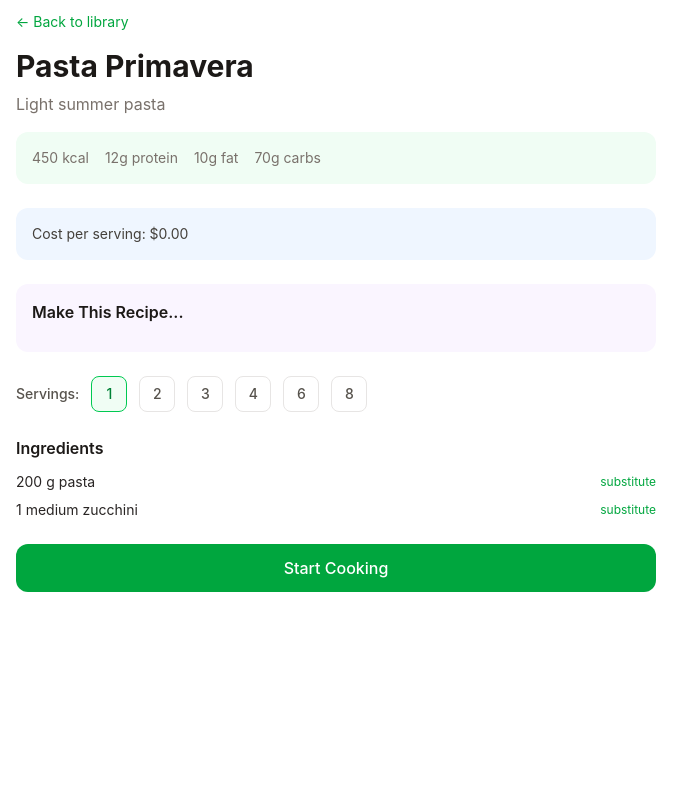
RecipeDetail › shows substitution results after clicking substitute
What coordinates should you click on to do the following:
click the button with test id "substitute-0"
I would click on:
 (628, 482)
Its box is x1=600 y1=474 x2=656 y2=490.
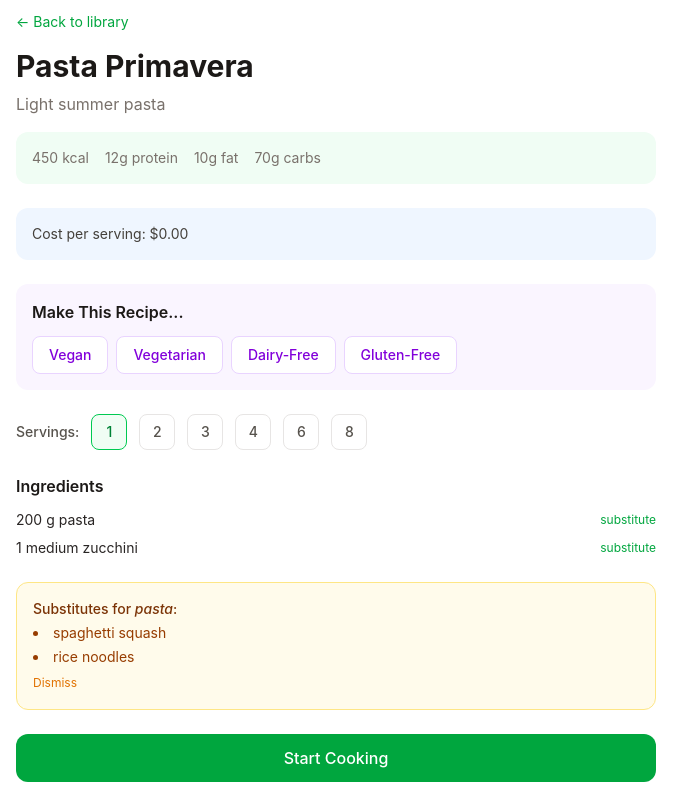
Now the element with test id "substitution-results" is shown, box x1=16 y1=582 x2=656 y2=710
Now the list item "spaghetti squash" is shown, box x1=53 y1=624 x2=166 y2=641
